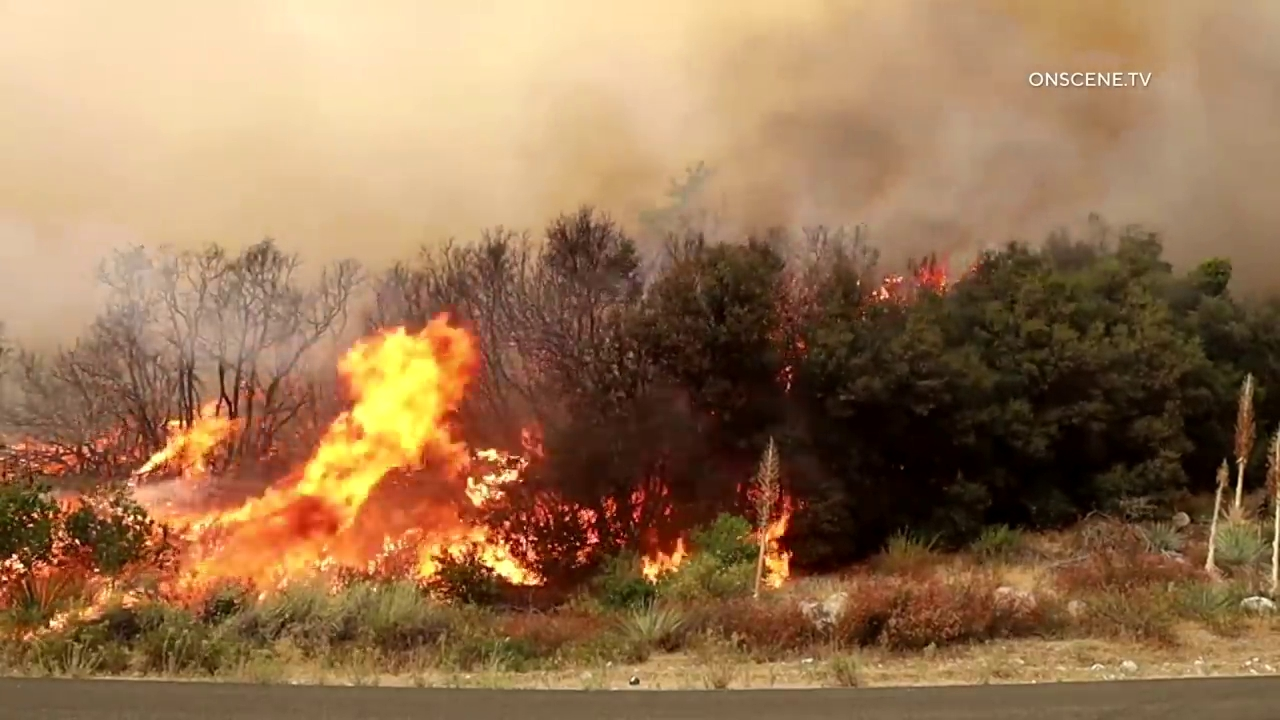forest_fire: (165, 314, 479, 589), (409, 525, 539, 584), (135, 417, 229, 474), (758, 510, 789, 586), (78, 588, 141, 619), (641, 540, 687, 580)
